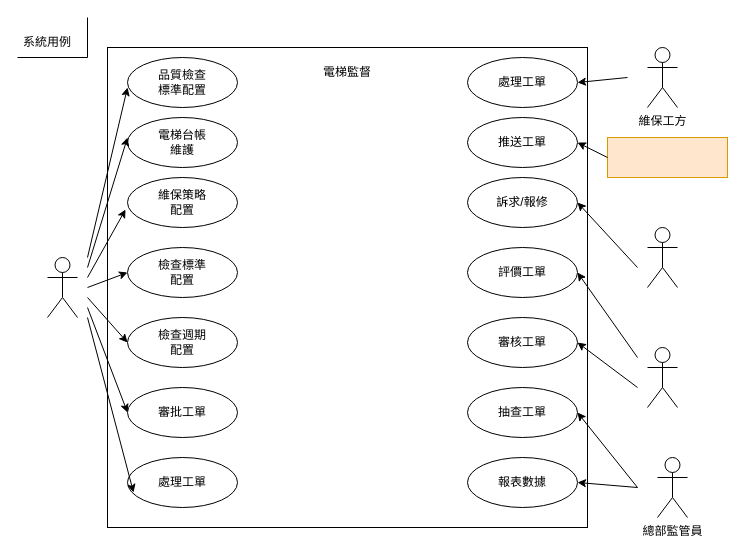
Image size: 745x556. Some labels were removed from this diagram. The shapes that lost their labels are listed below. From the top down, each one's box as (x1, y1, x2, y2) in pixels, then its label:
(606, 136, 728, 178): 第三方電梯系統
(646, 226, 678, 288): 管家/工程人員
(46, 256, 78, 318): 安全管理員
(646, 346, 678, 408): 區域負責人
